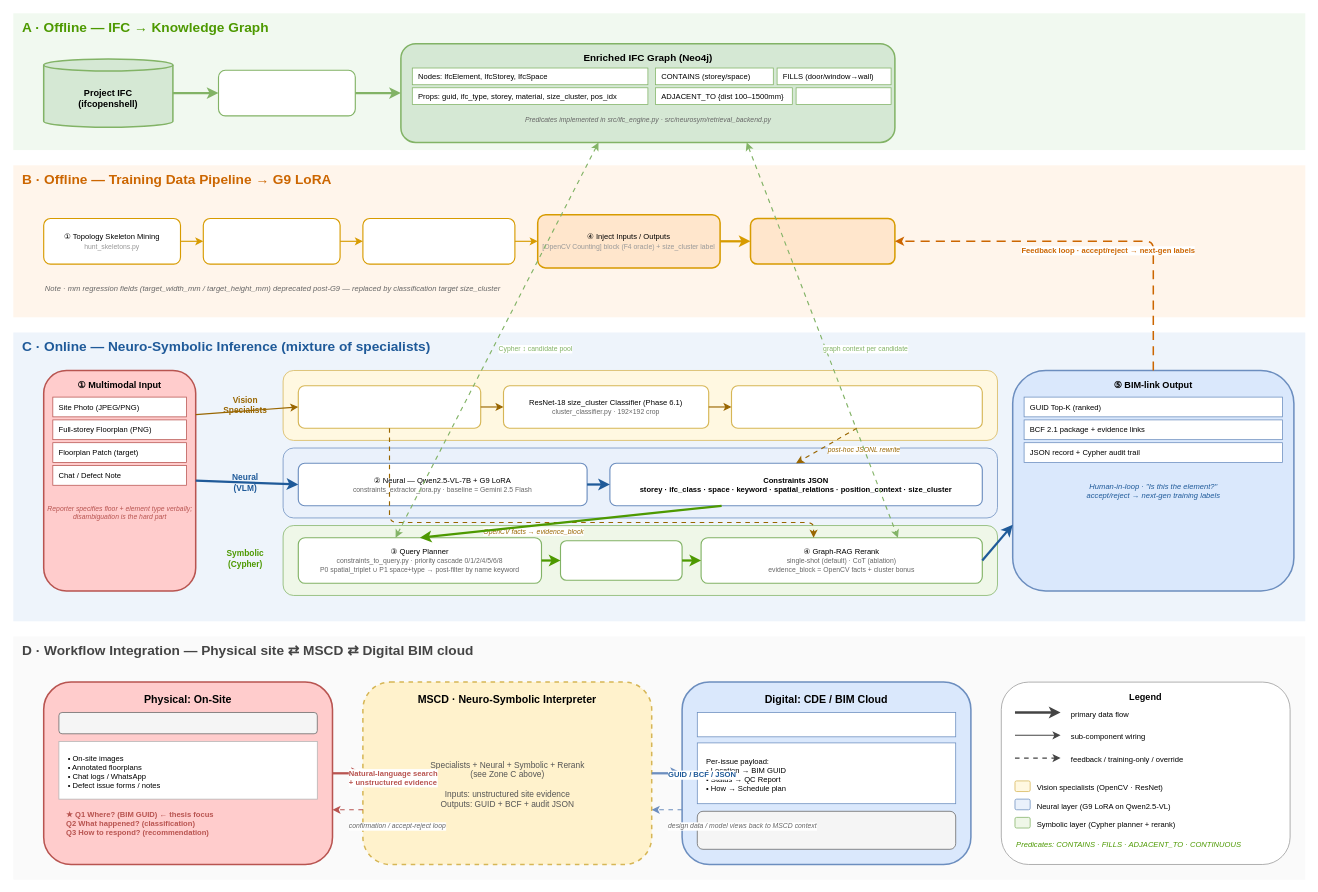
The diagram is 1318 pixels wide and 892 high, and some of its shapes have lost their labels. The shapes that lost their labels are listed below. From the top down, each one's centre as x and y in pixels, then its label:
the point at 287,92: ifc_engine.py (offline enrichment)
the point at 843,95: CONTINUOUS (multi-storey)
the point at 271,241: ② Skin Generation Gemini renders + LLM-as-Judge
the point at 438,241: ③ Tier 1/2/3 Labels ~200 spatial + ~900 attr-only + new topology
the point at 822,240: ⑤ G9 LoRA Adapter train_lora6.py · Modal
the point at 389,406: OpenCV Counter (F3 default · F4 oracle) floorplan_counter.py
the point at 857,406: Post-hoc Override inject_floorplan_counts.py · inject_size_cluster.py
the point at 621,560: Top-K Pool Cypher over Neo4j
the point at 187,723: Construction Managers / Subcontractors
the point at 826,724: IFC Repository · Submission Portal · BCF Issue Tracker
the point at 826,830: Architects · BIM Coordinator · Developer / Consultant
